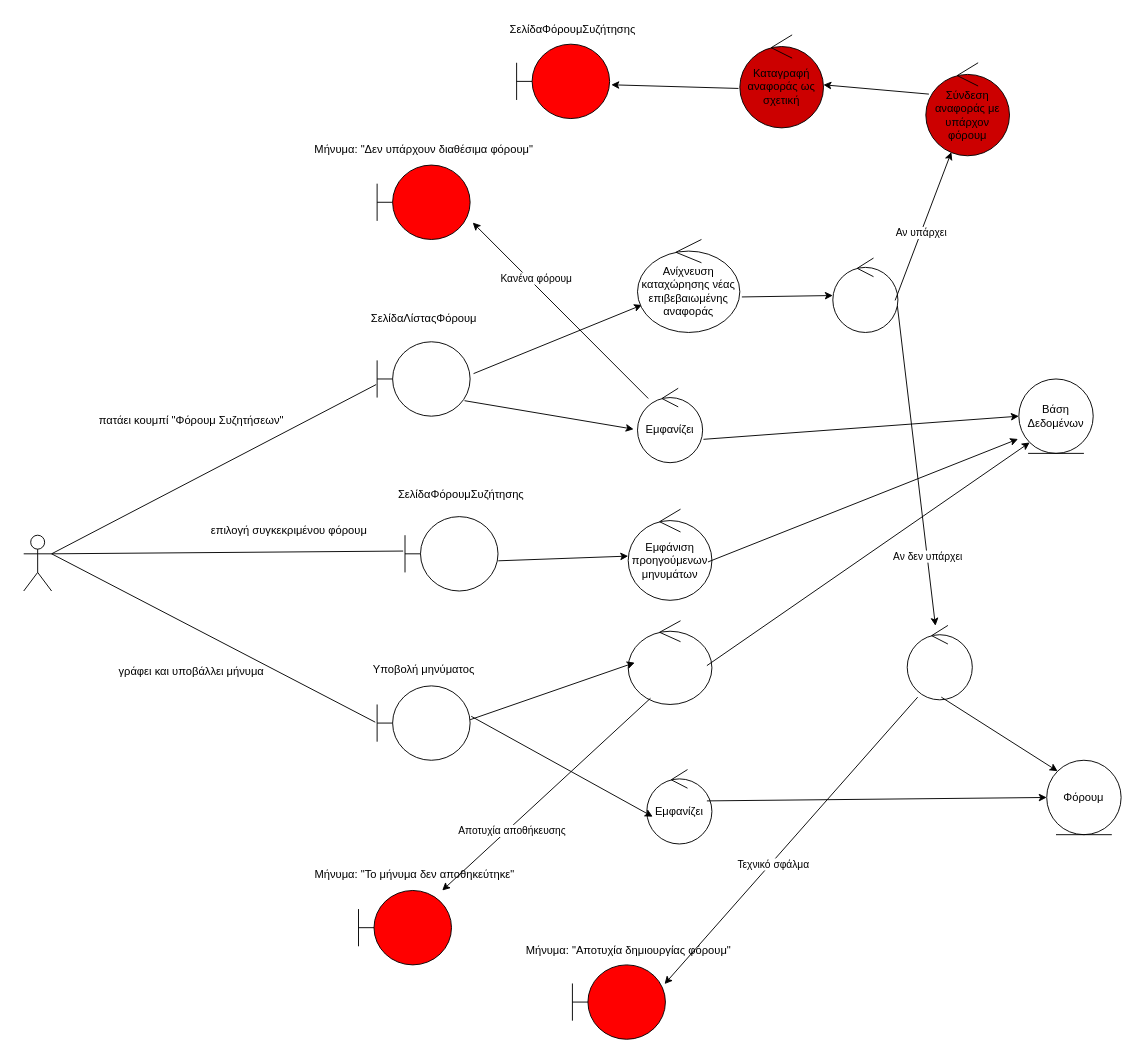
This 1137x1056 diagram has some shape labels left out. Here are the shapes that lost their labels. From the top down, the centre of each, then its label:
At pixel 865 294: "Έλεγχος ίδιου φόρουμ".
At pixel 37 562: "Χρήστης".
At pixel 669 662: "Αποθυκεέυει μήνυμα".
At pixel 939 662: "Δημιουργία νέου".
